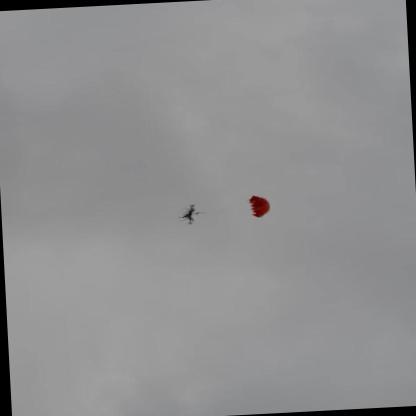drone: (176, 199, 202, 228)
